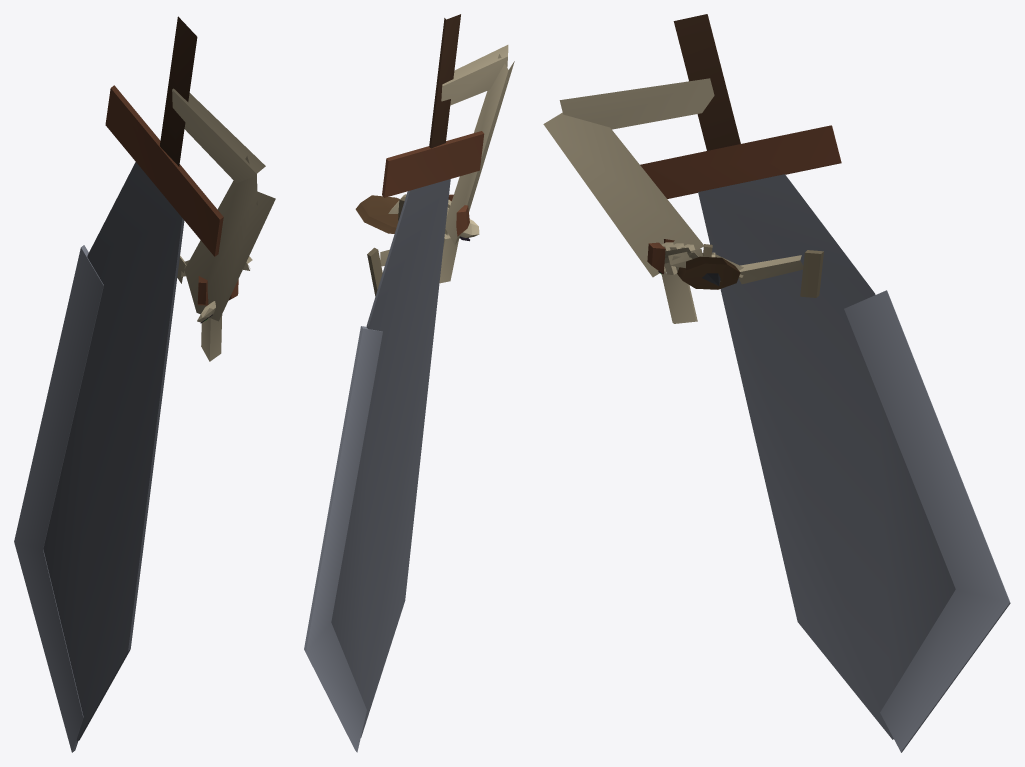
Rendered from warrior.glb.
3 views of the same model, side by side, from view 1: azimuth 30°, elevation 25°; view 2: azimuth 150°, elevation 25°; view 3: azimuth 270°, elevation 25° (orthographic). The views are drawn at different scales.
Parts seen in each view (by area): view 1: warrior; view 2: warrior; view 3: warrior.
Boxes of the visible parts, x1,y1,x2,y2 form: warrior: (14, 16, 275, 752); warrior: (304, 14, 514, 752); warrior: (543, 14, 1010, 752).
Size of the model in its own units: 1.42 by 10.76 by 6.16.
